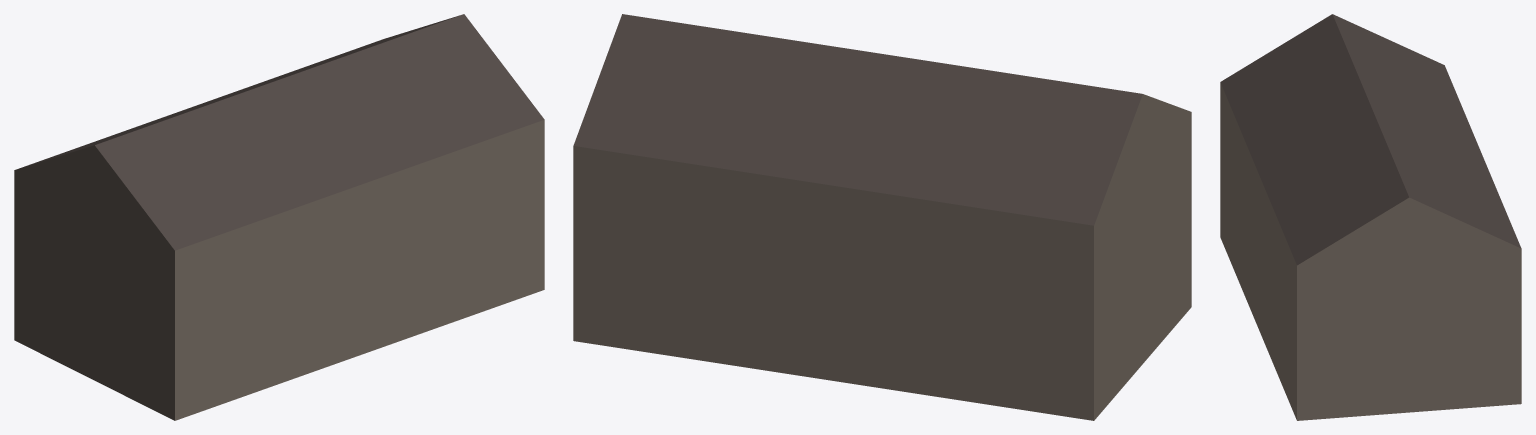
3 renders of one model, left to right at view 1: azimuth 30°, elevation 25°; view 2: azimuth 150°, elevation 25°; view 3: azimuth 270°, elevation 25°, orthographic. The views are drawn at different scales.
Visible parts, largest first — view 1: HP-w1200721931; view 2: HP-w1200721931; view 3: HP-w1200721931.
Part boxes in pixels (left/top/right/bottom): HP-w1200721931: left=14, top=14, right=544, bottom=420; HP-w1200721931: left=573, top=14, right=1191, bottom=420; HP-w1200721931: left=1220, top=14, right=1521, bottom=420.
Size of the model in its own units: 24.89 by 12.46 by 15.81.
